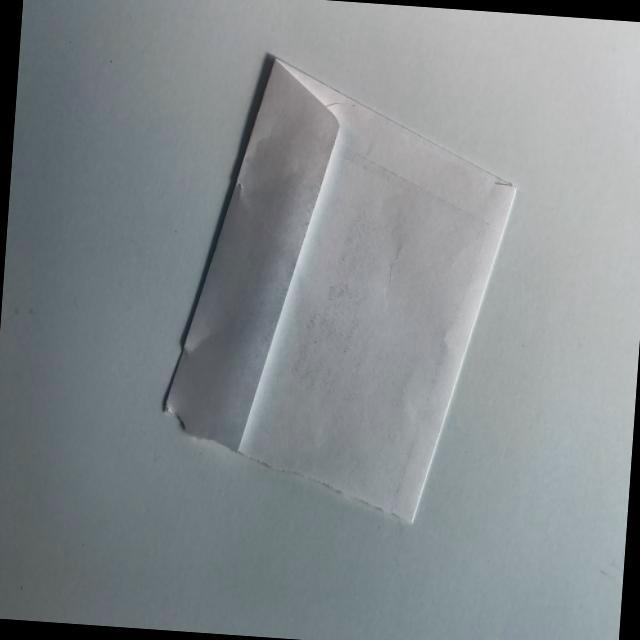paper: (148, 21, 538, 541)
